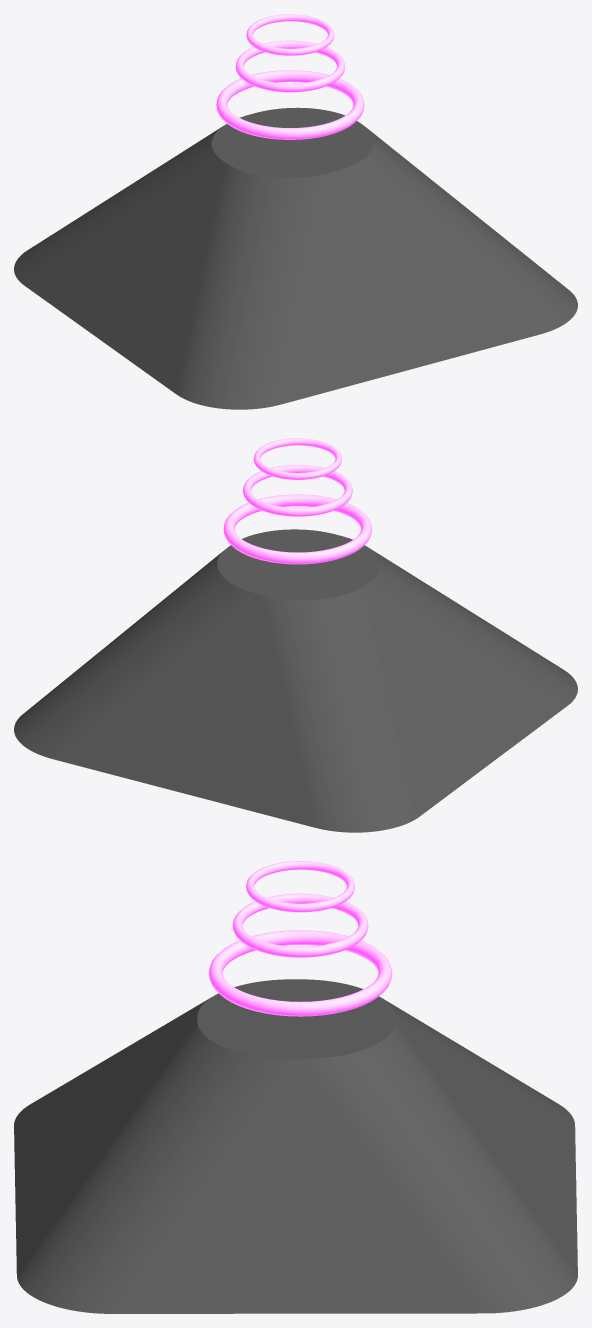
The model's file is lamp.fbx.
3 renders of one model, top to bottom at view 1: azimuth 30°, elevation 25°; view 2: azimuth 150°, elevation 25°; view 3: azimuth 270°, elevation 25°, orthographic. The views are drawn at different scales.
Visible parts, largest first — view 1: Torus.007_Torus.001; view 2: Torus.007_Torus.001; view 3: Torus.007_Torus.001.
Part boxes in pixels (left/top/right/bottom): Torus.007_Torus.001: left=14, top=14, right=577, bottom=409; Torus.007_Torus.001: left=14, top=438, right=577, bottom=832; Torus.007_Torus.001: left=14, top=861, right=577, bottom=1313.
Size of the model in its own units: 1383 by 870 by 1383.
